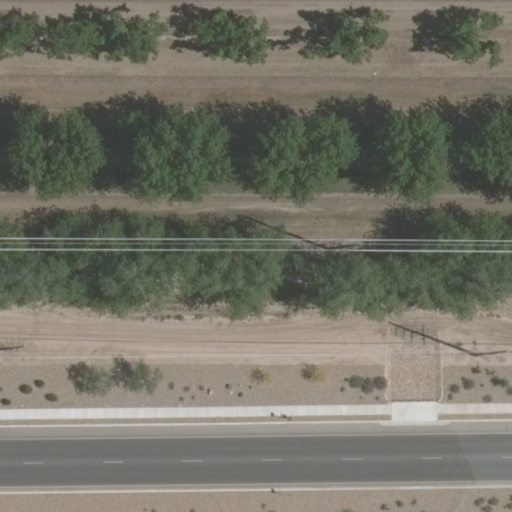DT: (320, 232, 363, 260), (465, 340, 512, 362), (1, 336, 29, 358)
